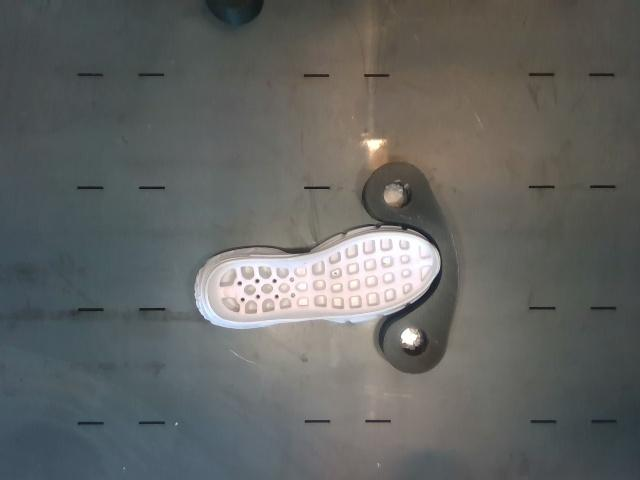shoes: (207, 233, 438, 322)
